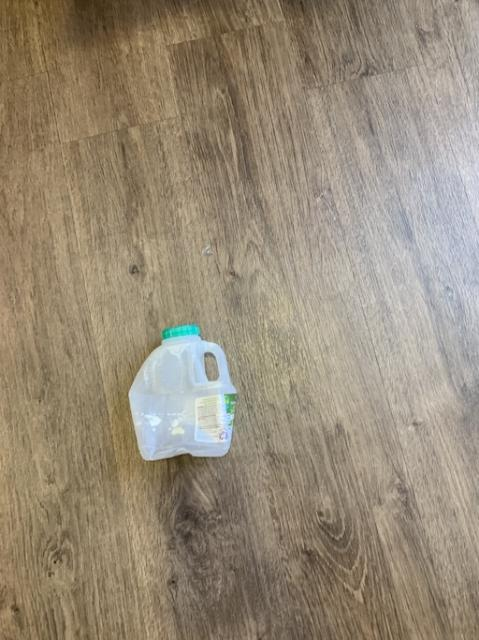plastic: (128, 324, 235, 458)
